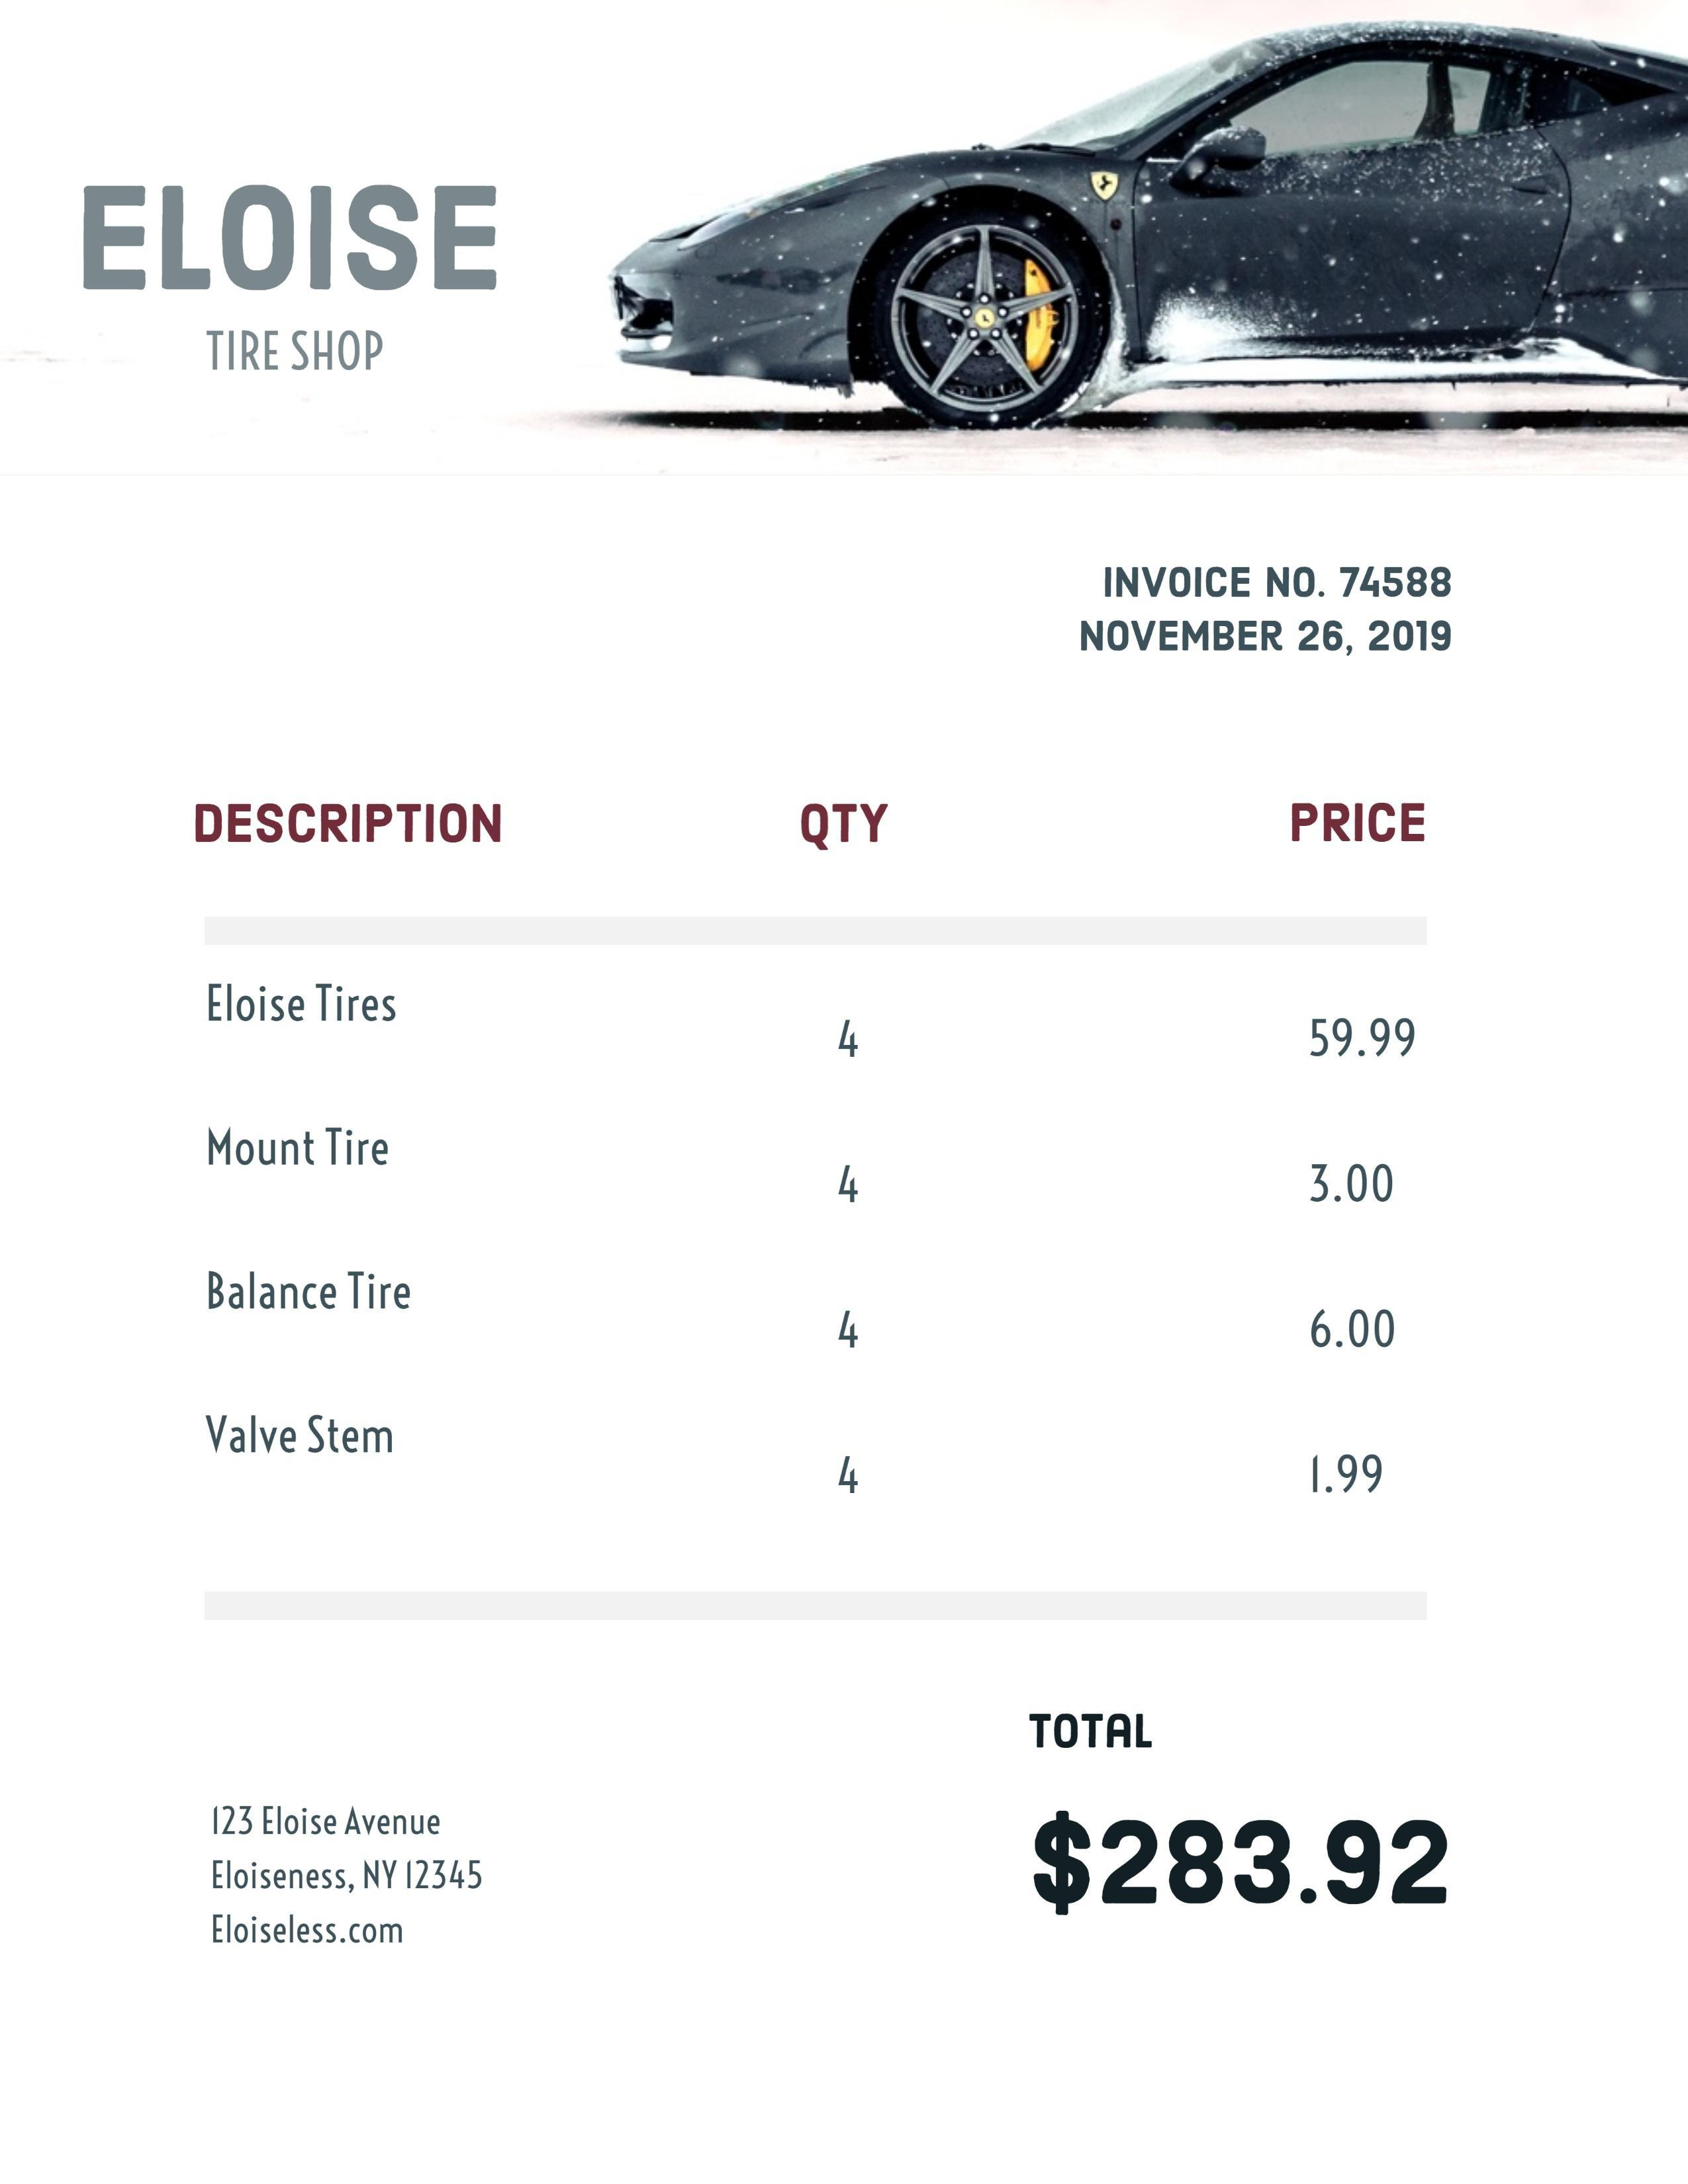ROI: (165, 798, 1534, 1546), (53, 149, 541, 420), (1000, 1693, 1505, 1948), (1020, 555, 1493, 688)
